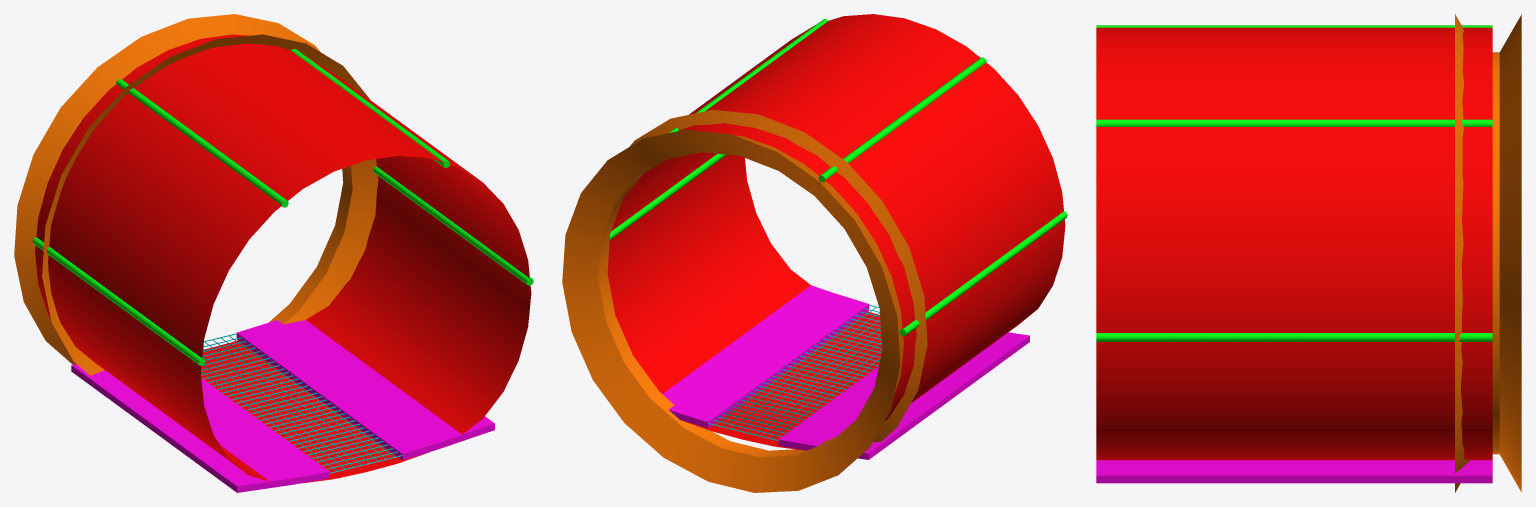
3 renders of one model, left to right at view 1: azimuth 30°, elevation 25°; view 2: azimuth 150°, elevation 25°; view 3: azimuth 270°, elevation 25°, orthographic. The views are drawn at different scales.
Parts seen in each view (by area): view 1: Tube001; view 2: Tube001; view 3: Tube001.
Boxes of the visible parts, bbox=[...] form: Tube001: bbox=[14, 14, 533, 492]; Tube001: bbox=[562, 14, 1067, 492]; Tube001: bbox=[1096, 14, 1521, 492].
Size of the model in its own units: 284 by 284 by 252.
